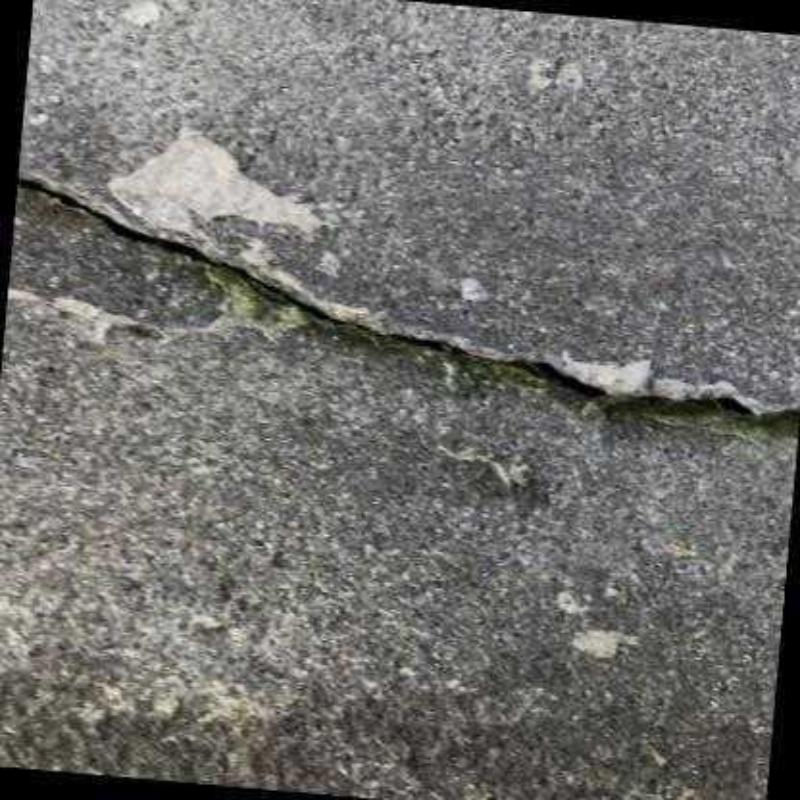pothole: (17, 177, 798, 418)
